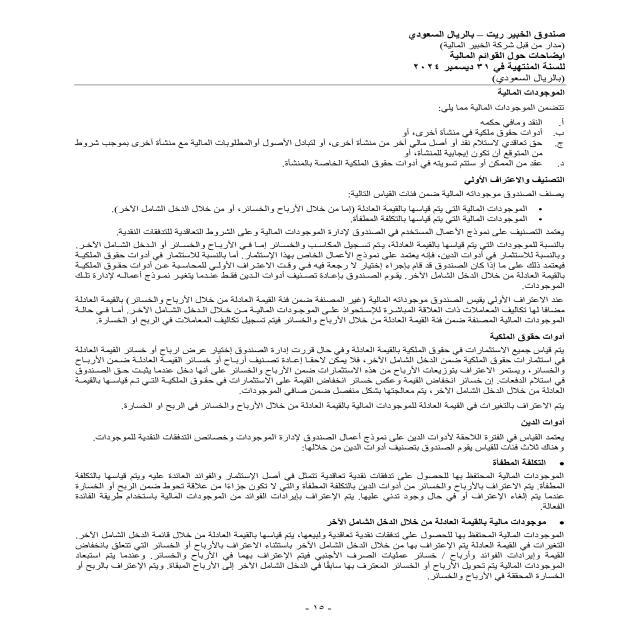notes: (438, 48, 571, 63)
text: (35, 103, 578, 596)
